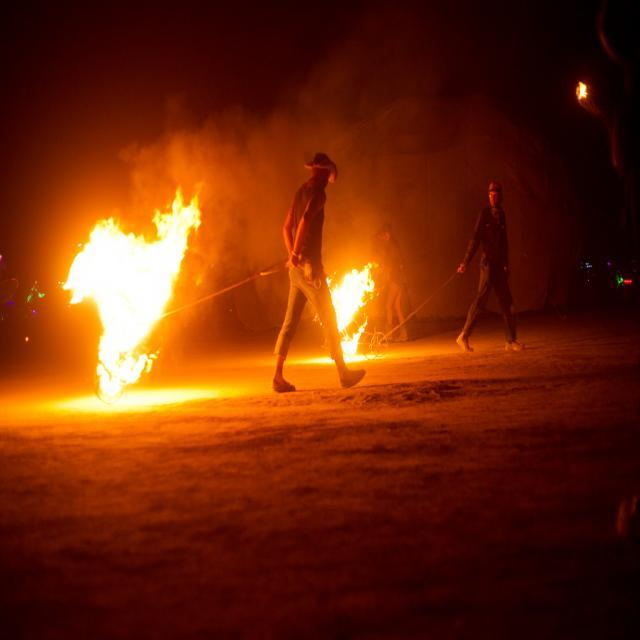Fire: (86, 228, 166, 368), (333, 276, 372, 332)
